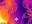Hotspot: (0, 6, 9, 23)
